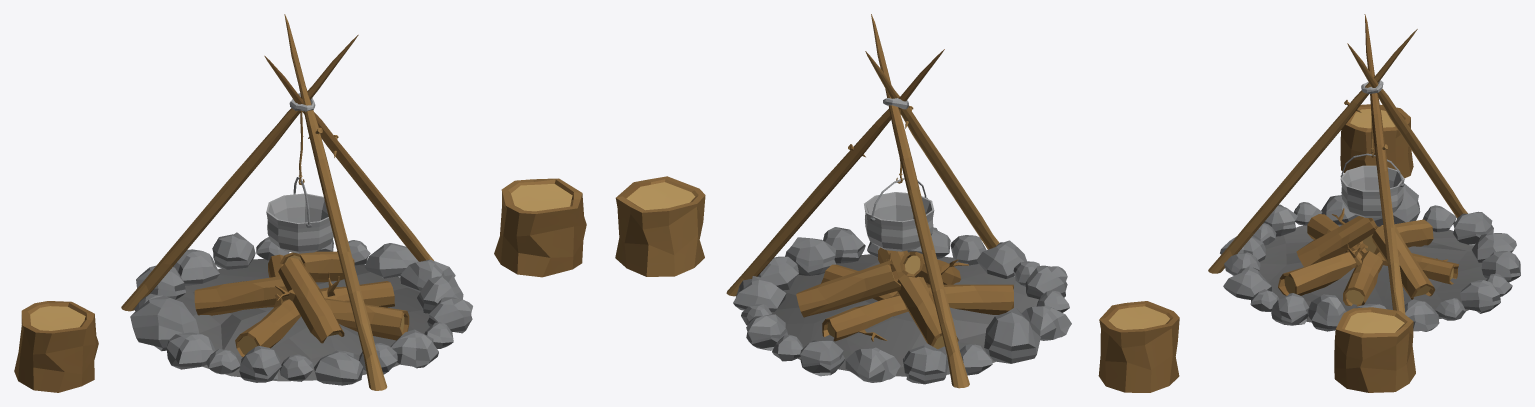
File: campfire.glb
The picture shows the model from 3 angles, left to right: view 1: azimuth 30°, elevation 25°; view 2: azimuth 150°, elevation 25°; view 3: azimuth 270°, elevation 25°; orthographic projection. The views are drawn at different scales.
Visible parts, largest first — view 1: fireplace, tripod, firewood, log_chair_1, log_chair_2, pot; view 2: fireplace, firewood, tripod, log_chair_1, log_chair_2, pot; view 3: fireplace, firewood, tripod, log_chair_1, log_chair_2, pot.
Boxes of the visible parts, <box> form: fireplace: <box>130,232,472,385</box>; tripod: <box>121,14,433,390</box>; firewood: <box>194,251,409,357</box>; log_chair_1: <box>494,178,586,277</box>; log_chair_2: <box>14,301,98,392</box>; pot: <box>266,193,333,253</box>; fireplace: <box>733,227,1071,384</box>; firewood: <box>796,247,1013,349</box>; tripod: <box>726,14,999,388</box>; log_chair_1: <box>615,176,705,276</box>; log_chair_2: <box>1098,301,1179,392</box>; pot: <box>864,192,934,251</box>; fireplace: <box>1220,184,1520,331</box>; firewood: <box>1278,208,1458,306</box>; tripod: <box>1208,14,1467,314</box>; log_chair_1: <box>1334,307,1415,392</box>; log_chair_2: <box>1340,104,1413,178</box>; pot: <box>1340,165,1404,217</box>.
Size of the model in its own units: 3.23 by 1.59 by 1.79.
Materials: 1 (1 with a texture image).
